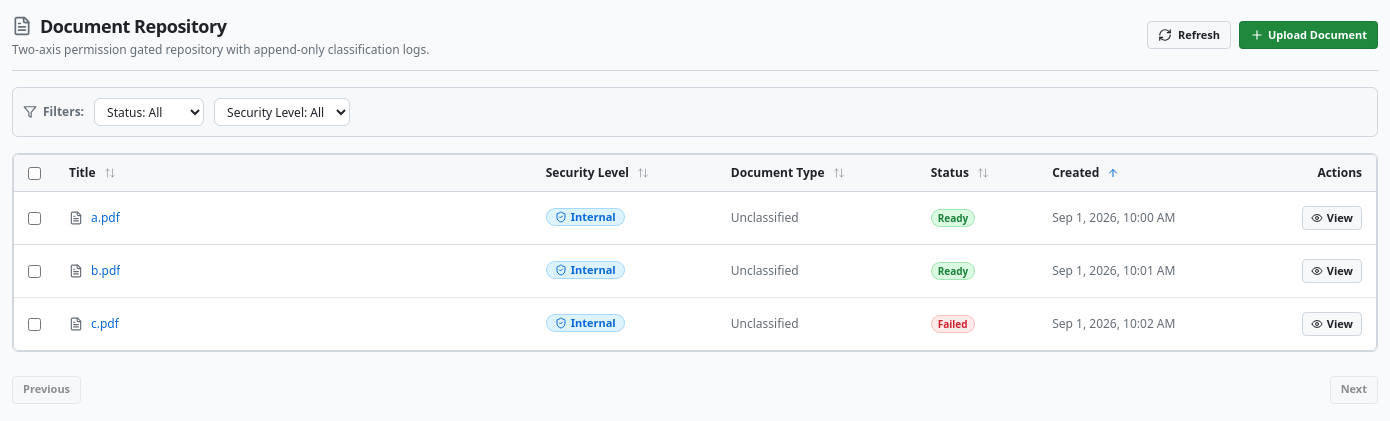
Test: DocumentsPage — selection › selecting a row reveals the delete control with a count
The image size is (1390, 421).
Expected: the table with test id "documents-table" is shown, [14, 155, 1376, 350]
Click the checkbox named "Select a.pdf".
click(34, 218)  # box [28, 212, 41, 225]
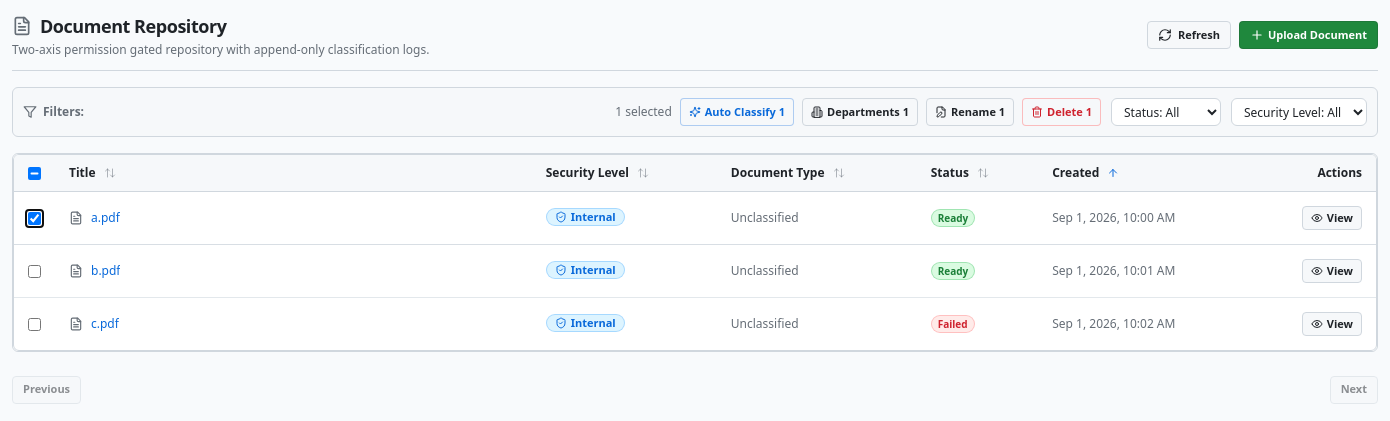
Expected: the button with test id "delete-selected" shows "1", [1022, 98, 1101, 126]
